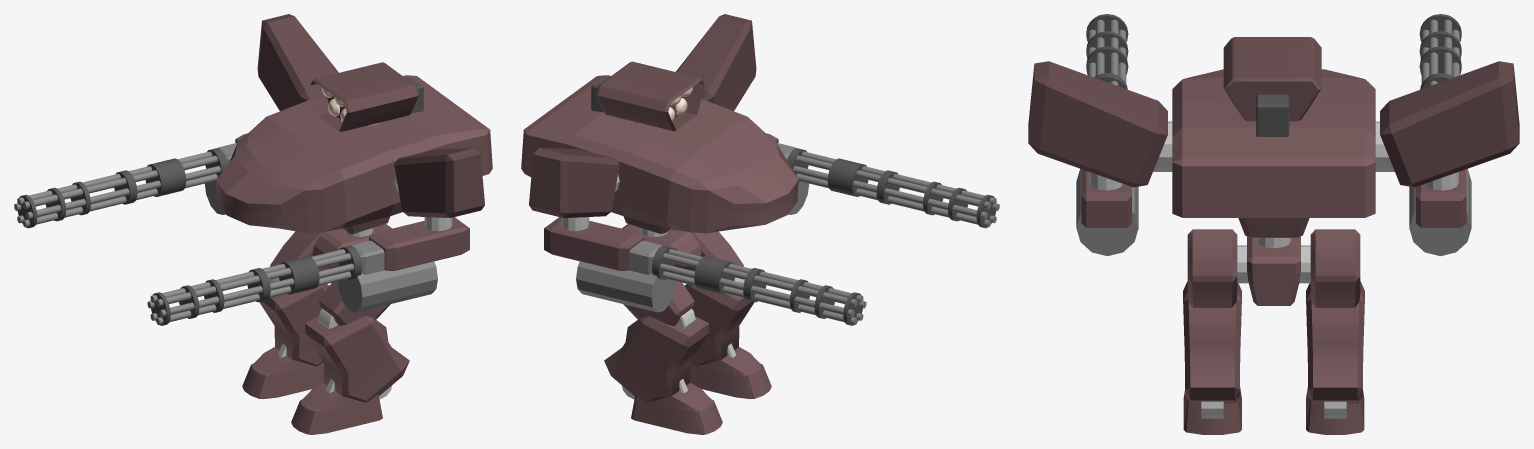
The model's file is enemy1 2.fbx.
3 views of the same model, side by side, from view 1: azimuth 30°, elevation 25°; view 2: azimuth 150°, elevation 25°; view 3: azimuth 270°, elevation 25° (orthographic). The views are drawn at different scales.
Parts seen in each view (by area): view 1: pCube15, pCube25 (×2), pCube20 (×2), pCube22 (×2), pCube31, pCube27, pCylinder12, pCube17 (×2), pCylinder23 (×2), pCylinder17 (×2), pCylinder16 (×2), pCylinder15 (+5 smaller); view 2: pCube15, pCube25 (×2), pCube20 (×2), pCube22 (×2), pCube31, pCube27, pCylinder12, pCube17 (×2), pCylinder23 (×2), pCylinder17 (×2), pCylinder16 (×2), pCylinder15 (+5 smaller); view 3: pCube25 (×2), pCube15, pCube20 (×2), pCube17 (×2), pCube31, pCube27 (×2), pCylinder12 (×2), pCube22 (×2), pCube16, pCube32, pCube14, pCylinder9 (×2) (+2 smaller).
Boxes of the visible parts, x1,y1,x2,y2 form: pCube15: [216, 75, 492, 233]; pCube25 (×2): [257, 14, 484, 217]; pCube20 (×2): [259, 280, 409, 402]; pCube22 (×2): [242, 347, 382, 434]; pCube31: [310, 62, 418, 131]; pCube27: [369, 217, 469, 270]; pCylinder12: [338, 261, 437, 312]; pCube17 (×2): [270, 231, 390, 325]; pCylinder23 (×2): [145, 158, 319, 294]; pCylinder17 (×2): [17, 151, 351, 306]; pCylinder16 (×2): [22, 155, 345, 302]; pCylinder15: [159, 263, 354, 316]; pCube15: [521, 75, 798, 233]; pCube25 (×2): [529, 14, 756, 217]; pCube20 (×2): [604, 280, 754, 402]; pCube22 (×2): [631, 347, 771, 434]; pCube31: [596, 61, 704, 131]; pCube27: [544, 217, 644, 270]; pCylinder12: [576, 261, 675, 312]; pCube17 (×2): [623, 231, 743, 325]; pCylinder23 (×2): [694, 158, 868, 294]; pCylinder17 (×2): [662, 151, 996, 306]; pCylinder16 (×2): [668, 155, 991, 302]; pCylinder15: [659, 263, 854, 316]; pCube25 (×2): [1028, 61, 1519, 187]; pCube15: [1172, 69, 1375, 217]; pCube20 (×2): [1183, 281, 1364, 403]; pCube17 (×2): [1187, 229, 1360, 307]; pCube31: [1223, 37, 1321, 121]; pCube27 (×2): [1081, 169, 1466, 227]; pCylinder12 (×2): [1076, 168, 1471, 256]; pCube22 (×2): [1183, 387, 1364, 434]; pCube16: [1247, 236, 1300, 305]; pCube32: [1256, 94, 1289, 136]; pCube14: [1238, 218, 1309, 237]; pCylinder9 (×2): [1153, 121, 1394, 171].
Bounding box in the file's own units: 1.95 × 1.56 × 1.8.
